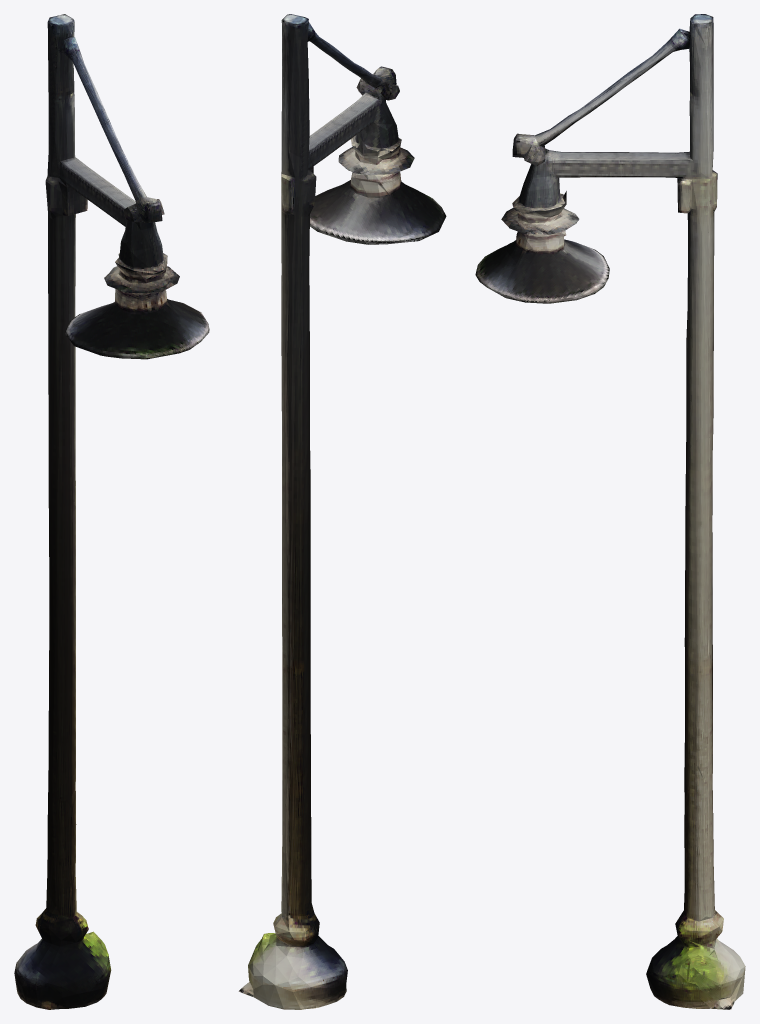
Rendered from LampPost.glb.
3 renders of one model, left to right at view 1: azimuth 30°, elevation 25°; view 2: azimuth 150°, elevation 25°; view 3: azimuth 270°, elevation 25°, orthographic.
Parts seen in each view (by area): view 1: world; view 2: world; view 3: world.
Part boxes in pixels (bbox=[...]): world: bbox=[14, 14, 209, 1009]; world: bbox=[238, 14, 446, 1009]; world: bbox=[475, 14, 745, 1009].
Bounding box in the file's own units: 0.1379 × 1 × 0.2522.
Materials: 1 (1 with a texture image).
